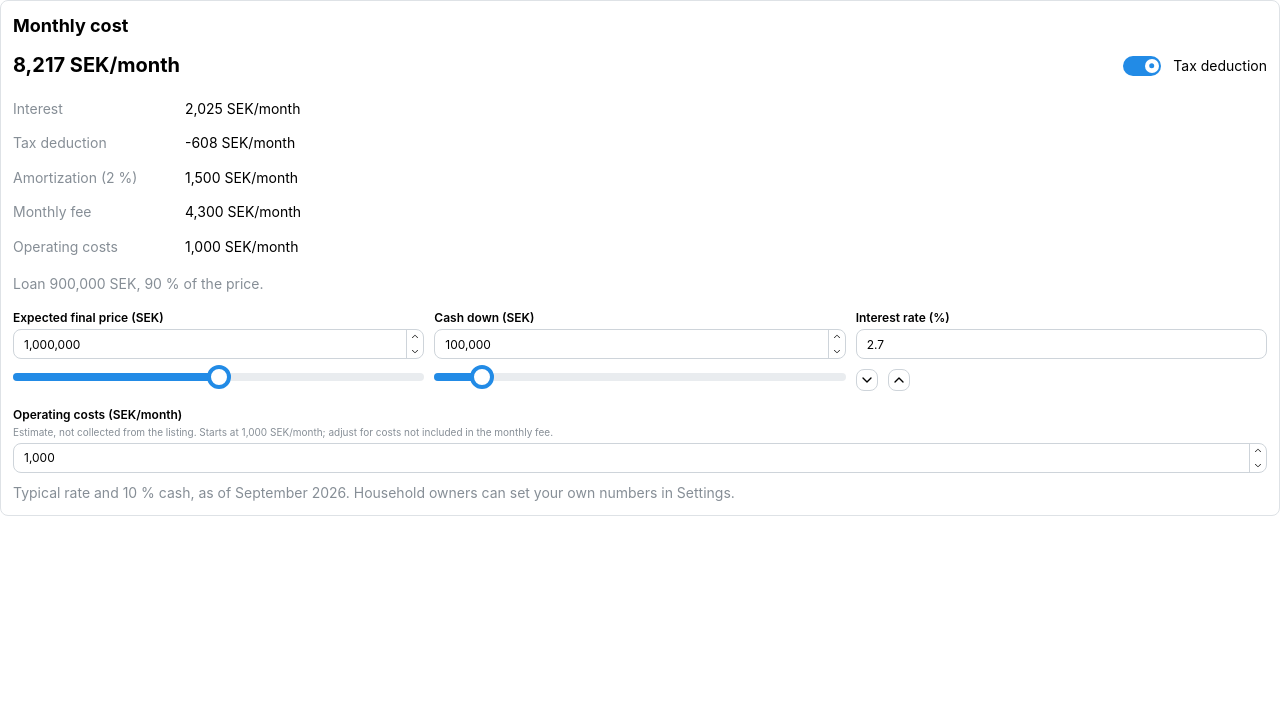
recalculates monthly cost when operating costs and interest tax relief change
Expected: the switch named "Include interest tax relief" is checked, top-left (1123, 56), bottom-right (1267, 76)
Expected: the text "8,217 SEK/month" is shown, top-left (13, 49), bottom-right (180, 82)
Replace the text in the field labelled "Operating costs (SEK/month)" with "1500" at [640, 458], box top-left (13, 443), bottom-right (1267, 473)
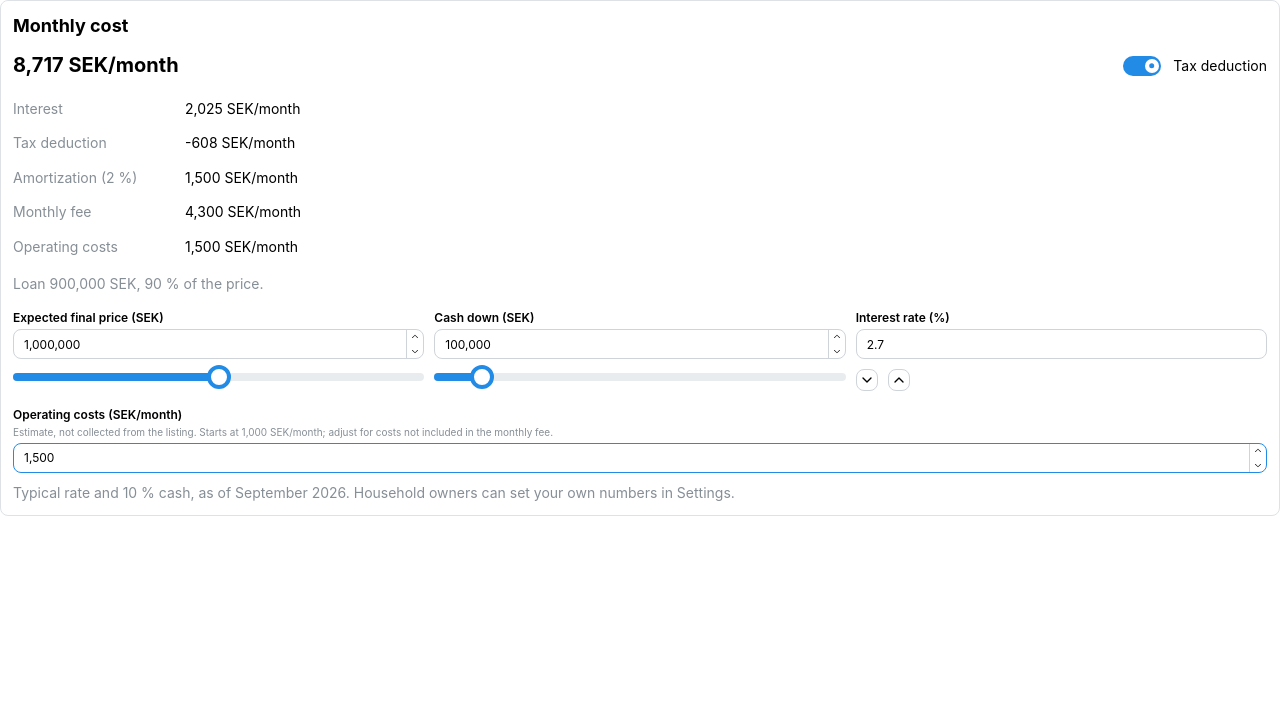
Expected: the text "8,717 SEK/month" is shown, top-left (13, 49), bottom-right (179, 82)
Click the switch named "Include interest tax relief" at [1195, 66], box top-left (1123, 56), bottom-right (1267, 76)
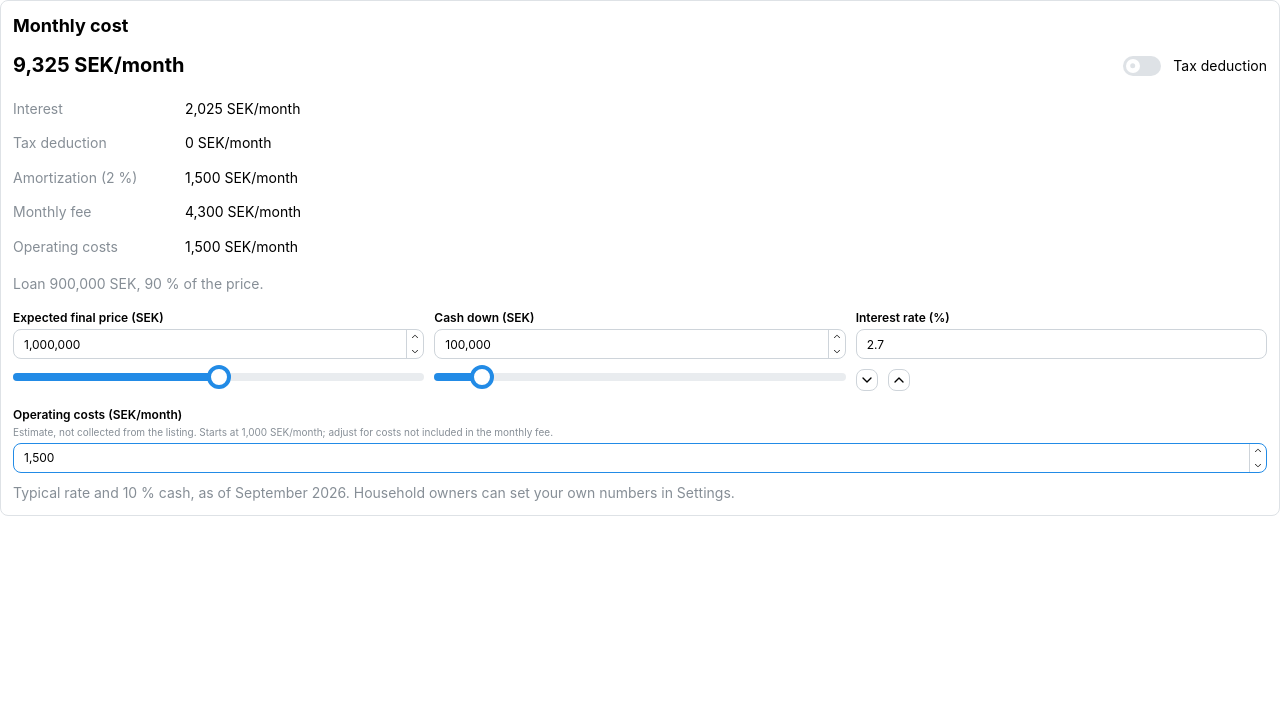
Expected: the text "9,325 SEK/month" is shown, top-left (13, 49), bottom-right (184, 82)
Replace the text in the field labelled "Operating costs (SEK/month)" with "0" at [640, 458], box top-left (13, 443), bottom-right (1267, 473)
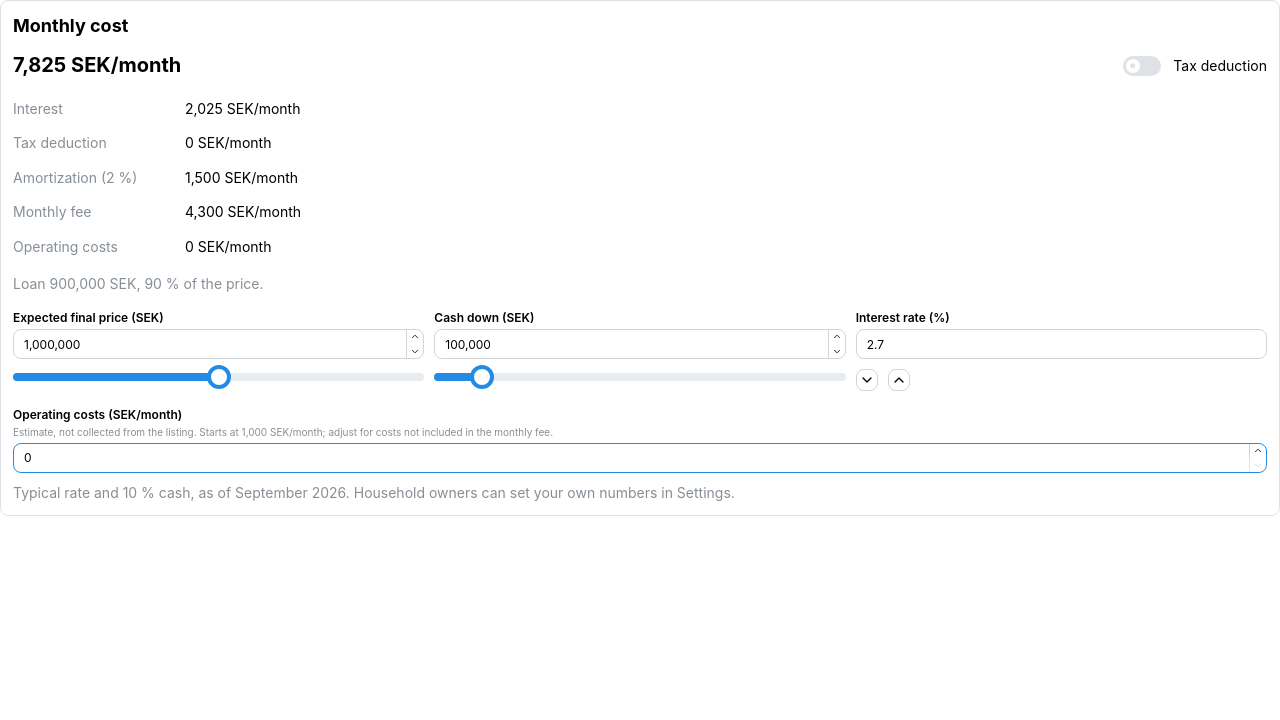
Expected: the text "7,825 SEK/month" is shown, top-left (13, 49), bottom-right (181, 82)
Click the switch named "Include interest tax relief" at [1195, 66], box top-left (1123, 56), bottom-right (1267, 76)
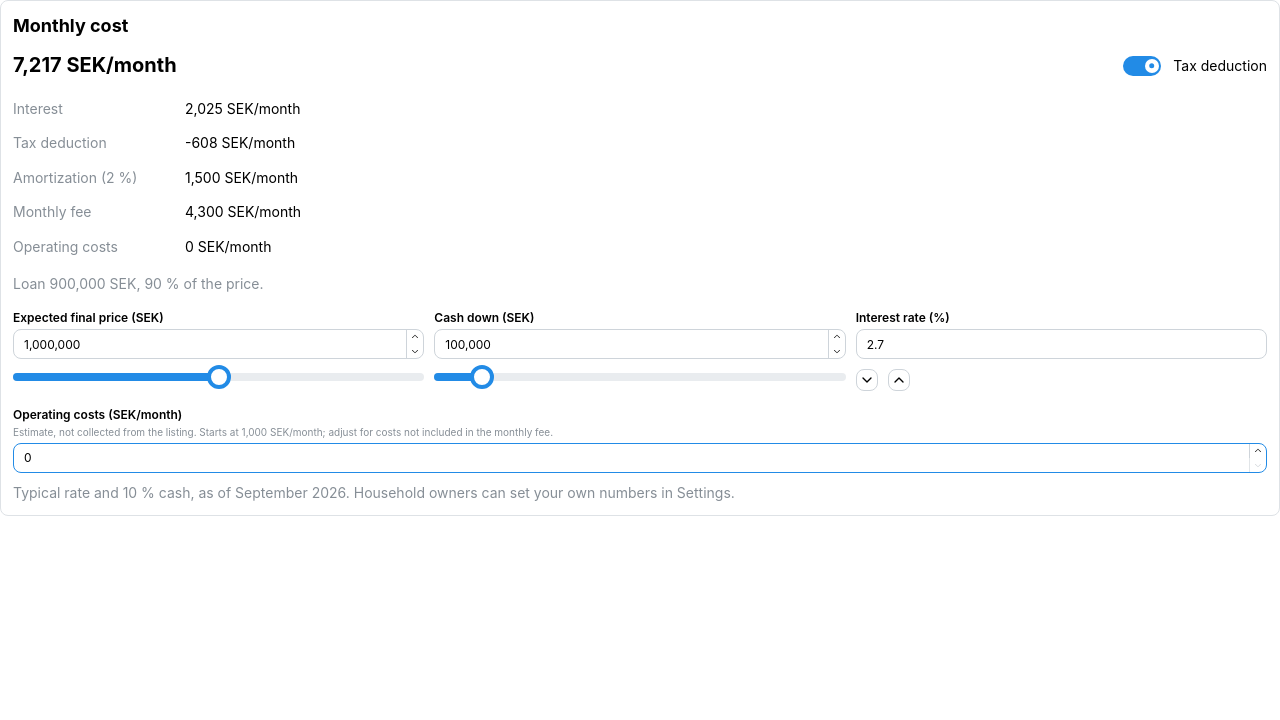
Expected: the text "7,217 SEK/month" is shown, top-left (13, 49), bottom-right (177, 82)
Press ArrowRight in the slider named "Expected final price (SEK)", box top-left (207, 365), bottom-right (231, 389)
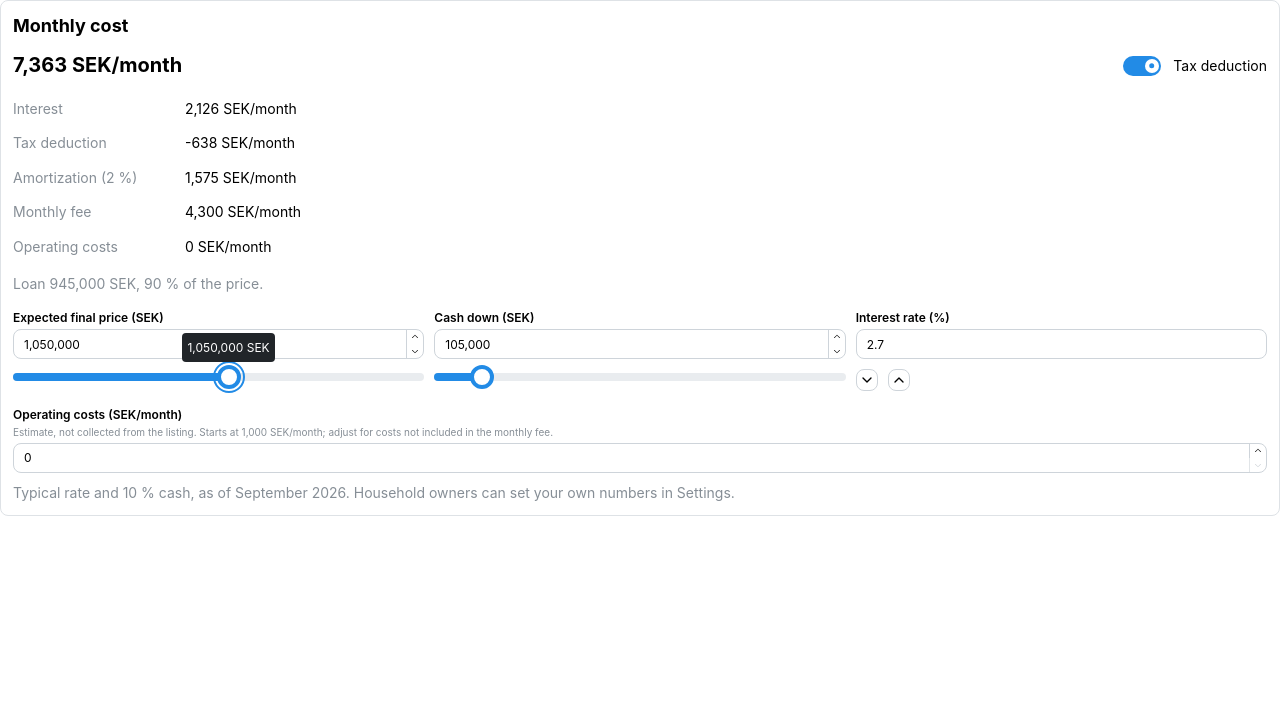
Expected: the field labelled "Expected final price (SEK)" holds "1,050,000", top-left (13, 329), bottom-right (424, 359)
Press ArrowRight in the slider named "Cash down (SEK)", box top-left (470, 365), bottom-right (494, 389)
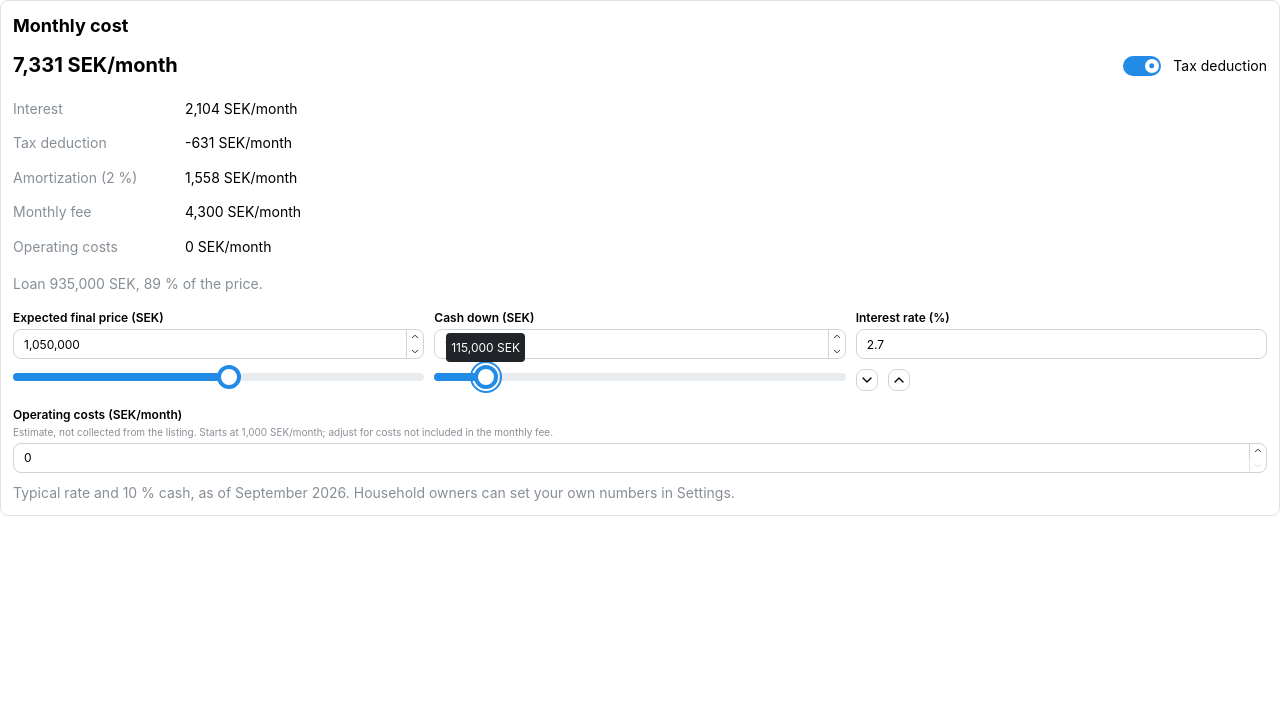
Expected: the field labelled "Cash down (SEK)" holds "115,000", top-left (434, 329), bottom-right (846, 359)
